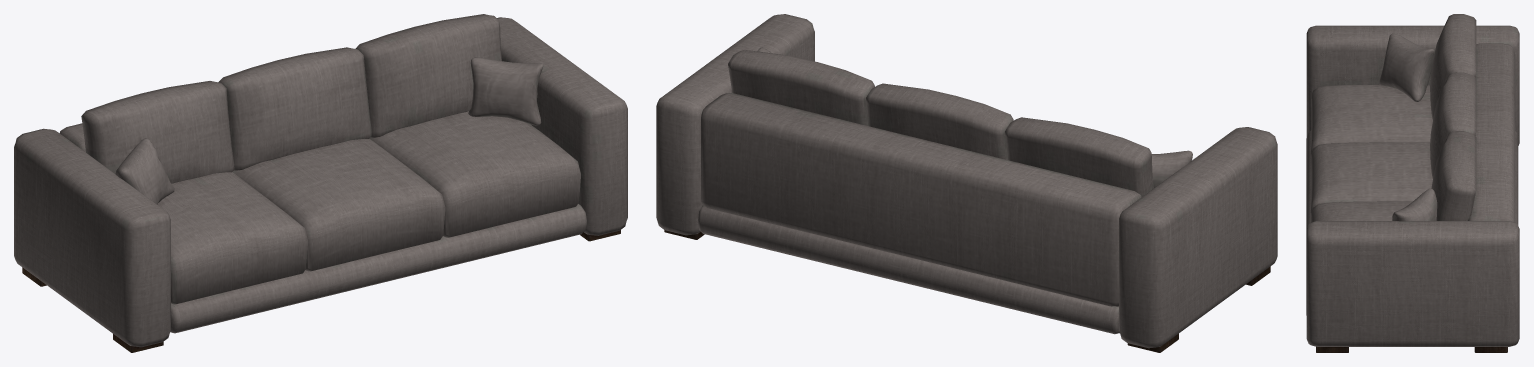
The model's file is sofa2.glb.
3 renders of one model, left to right at view 1: azimuth 30°, elevation 25°; view 2: azimuth 150°, elevation 25°; view 3: azimuth 270°, elevation 25°, orthographic. The views are drawn at different scales.
Visible parts, largest first — view 1: g.002; view 2: g.002; view 3: g.002.
Part boxes in pixels (x1,y1,x2,y2): g.002: (14, 14, 627, 352); g.002: (656, 14, 1277, 352); g.002: (1306, 14, 1519, 352).
Size of the model in its own units: 2 by 0.6593 by 0.8387.
Materials: 1 (1 with a texture image).
